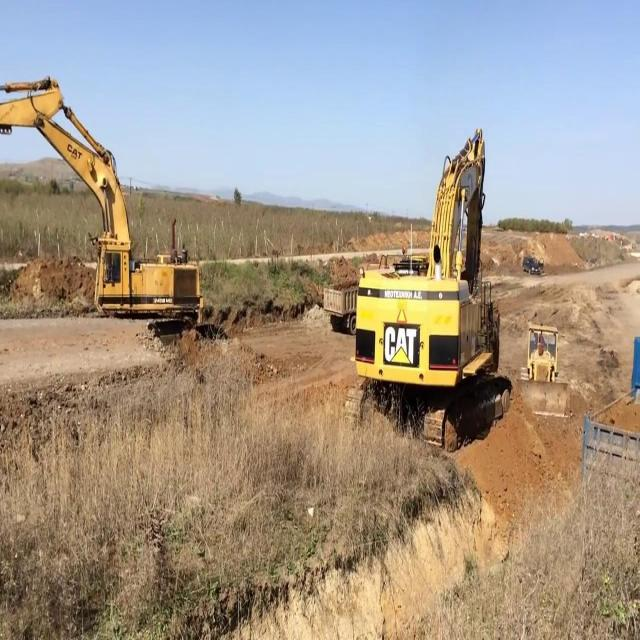buldozerpayloadergrader: (516, 324, 570, 418)
dump_truck: (582, 332, 640, 473), (322, 279, 356, 337)
excavator: (343, 123, 512, 453), (0, 72, 203, 319)
